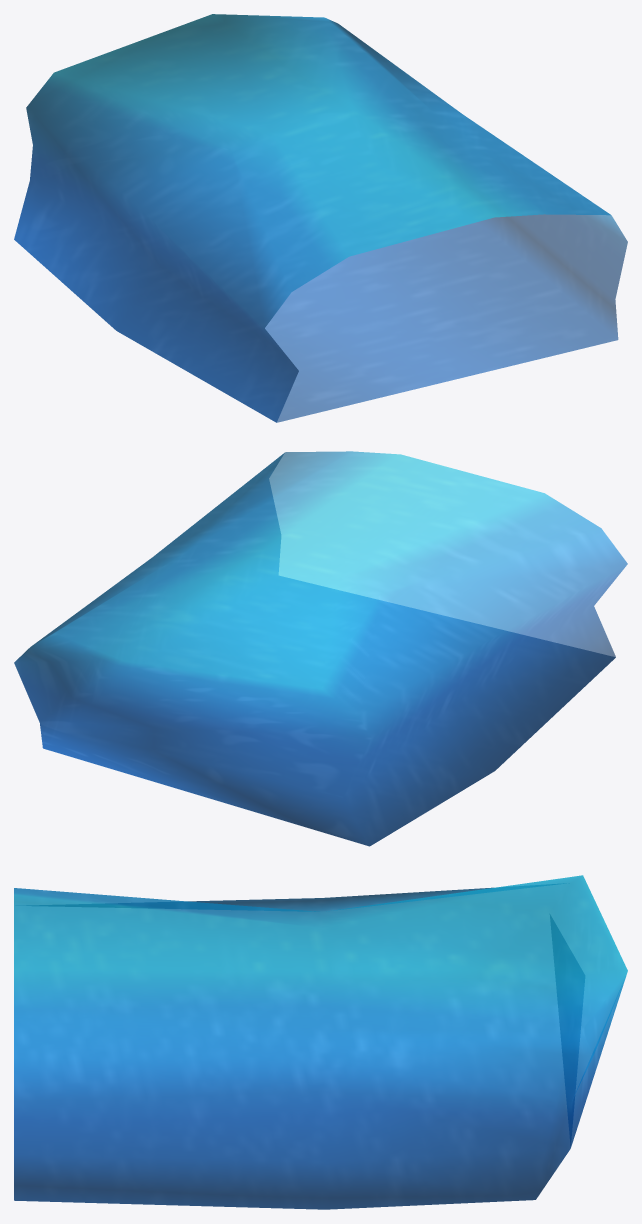
Rendered from freeze_start.fbx.
3 views of the same model, one above another, from view 1: azimuth 30°, elevation 25°; view 2: azimuth 150°, elevation 25°; view 3: azimuth 270°, elevation 25° (orthographic). The views are drawn at different scales.
Parts seen in each view (by area): view 1: Cube.012; view 2: Cube.012; view 3: Cube.012.
Part boxes in pixels (x1=…): Cube.012: x1=14, y1=14, x2=627, y2=422; Cube.012: x1=14, y1=451, x2=627, y2=846; Cube.012: x1=14, y1=875, x2=627, y2=1209.
Bounding box in the file's own units: 85.43 × 34.67 × 111.
